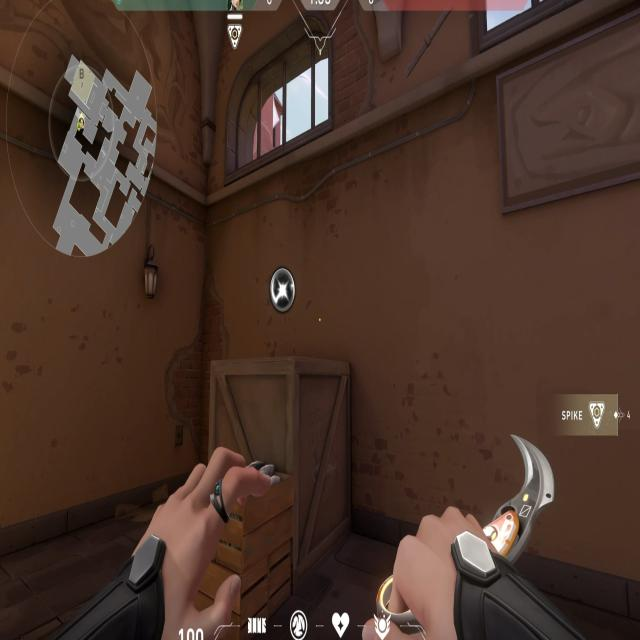B_Main_Wallbang: (178, 253, 306, 551)
Throwables: (199, 10, 340, 184)
